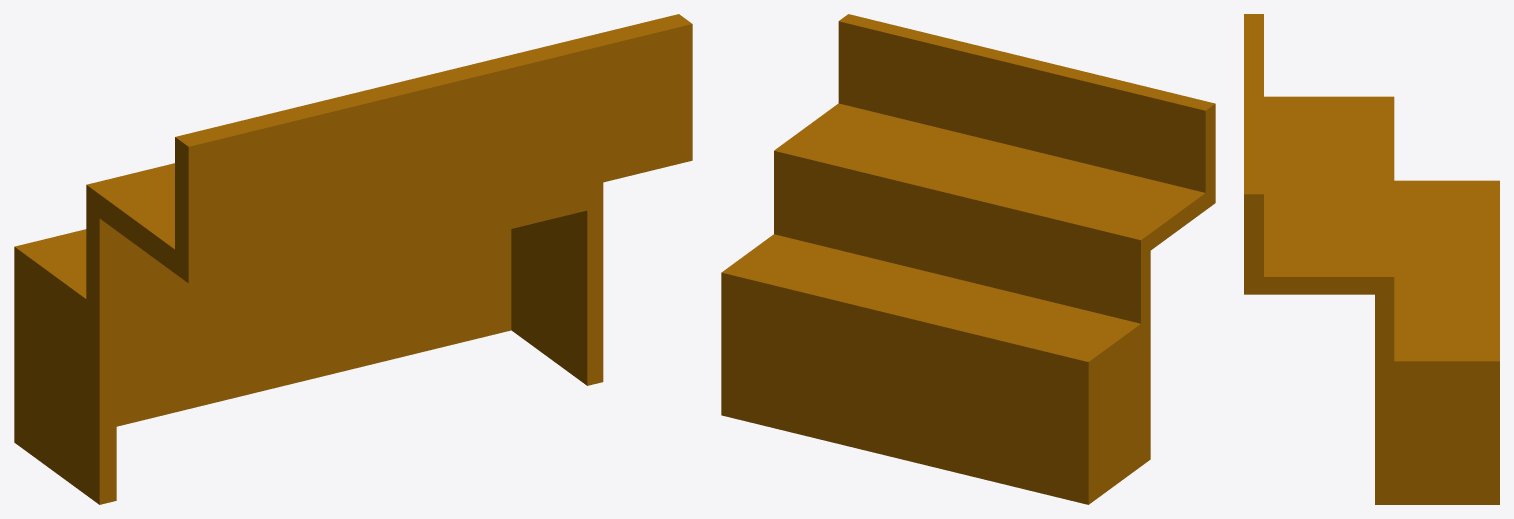
The model's file is doska.fbx.
3 renders of one model, left to right at view 1: azimuth 30°, elevation 25°; view 2: azimuth 150°, elevation 25°; view 3: azimuth 270°, elevation 25°, orthographic. The views are drawn at different scales.
Visible parts, largest first — view 1: Cube; view 2: Cube; view 3: Cube.
Part boxes in pixels (x1,y1,x2,y2): Cube: (14,14,692,504); Cube: (721,14,1215,504); Cube: (1244,14,1499,504).
Size of the model in its own units: 6276 by 5039 by 3760.
